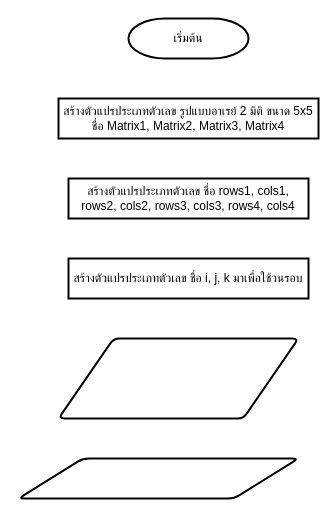
This 336x516 diagram has some shape labels left out. The shapes that lost their labels are listed below. From the top down, each one's box as (x1, y1, x2, y2) in pixels, then its label:
(57, 337, 299, 419): แสดงข้อความ "Enter Matrix1 : " และขึ้นบรรทัดใหม่
(17, 457, 299, 499): แสดงข้อความ "Enter number rows and columns : "
